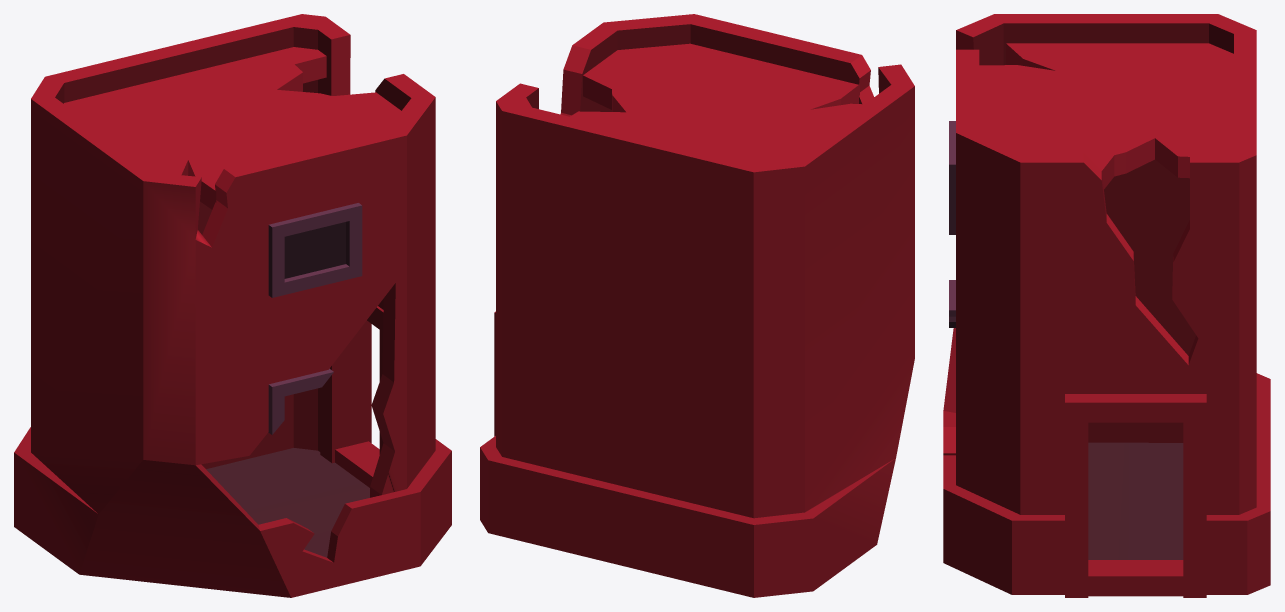
The model's file is square_house_a.fbx.
The picture shows the model from 3 angles, left to right: view 1: azimuth 30°, elevation 25°; view 2: azimuth 150°, elevation 25°; view 3: azimuth 270°, elevation 25°; orthographic projection. The views are drawn at different scales.
Parts seen in each view (by area): view 1: square_house_a; view 2: square_house_a; view 3: square_house_a.
Part boxes in pixels (bbox=[...]): square_house_a: bbox=[14, 14, 451, 597]; square_house_a: bbox=[480, 14, 914, 597]; square_house_a: bbox=[943, 14, 1270, 597].
Bounding box in the file's own units: 373 × 454 × 316.
